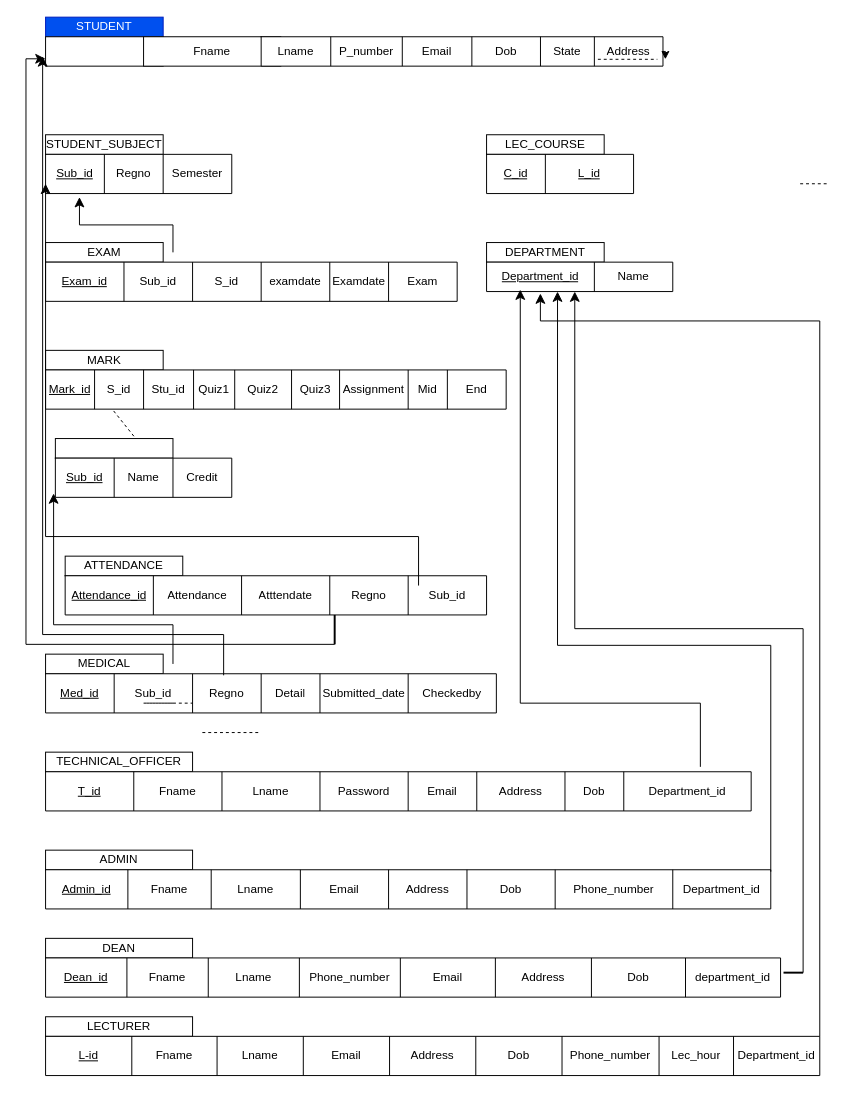
Image size: 848x1093. Some labels were removed from this diagram. The centre of each missing label's shape, as x and y in pixels:
"Reg_n0" belongs at [104,51].
"SUBJECT" belongs at [113,448].
